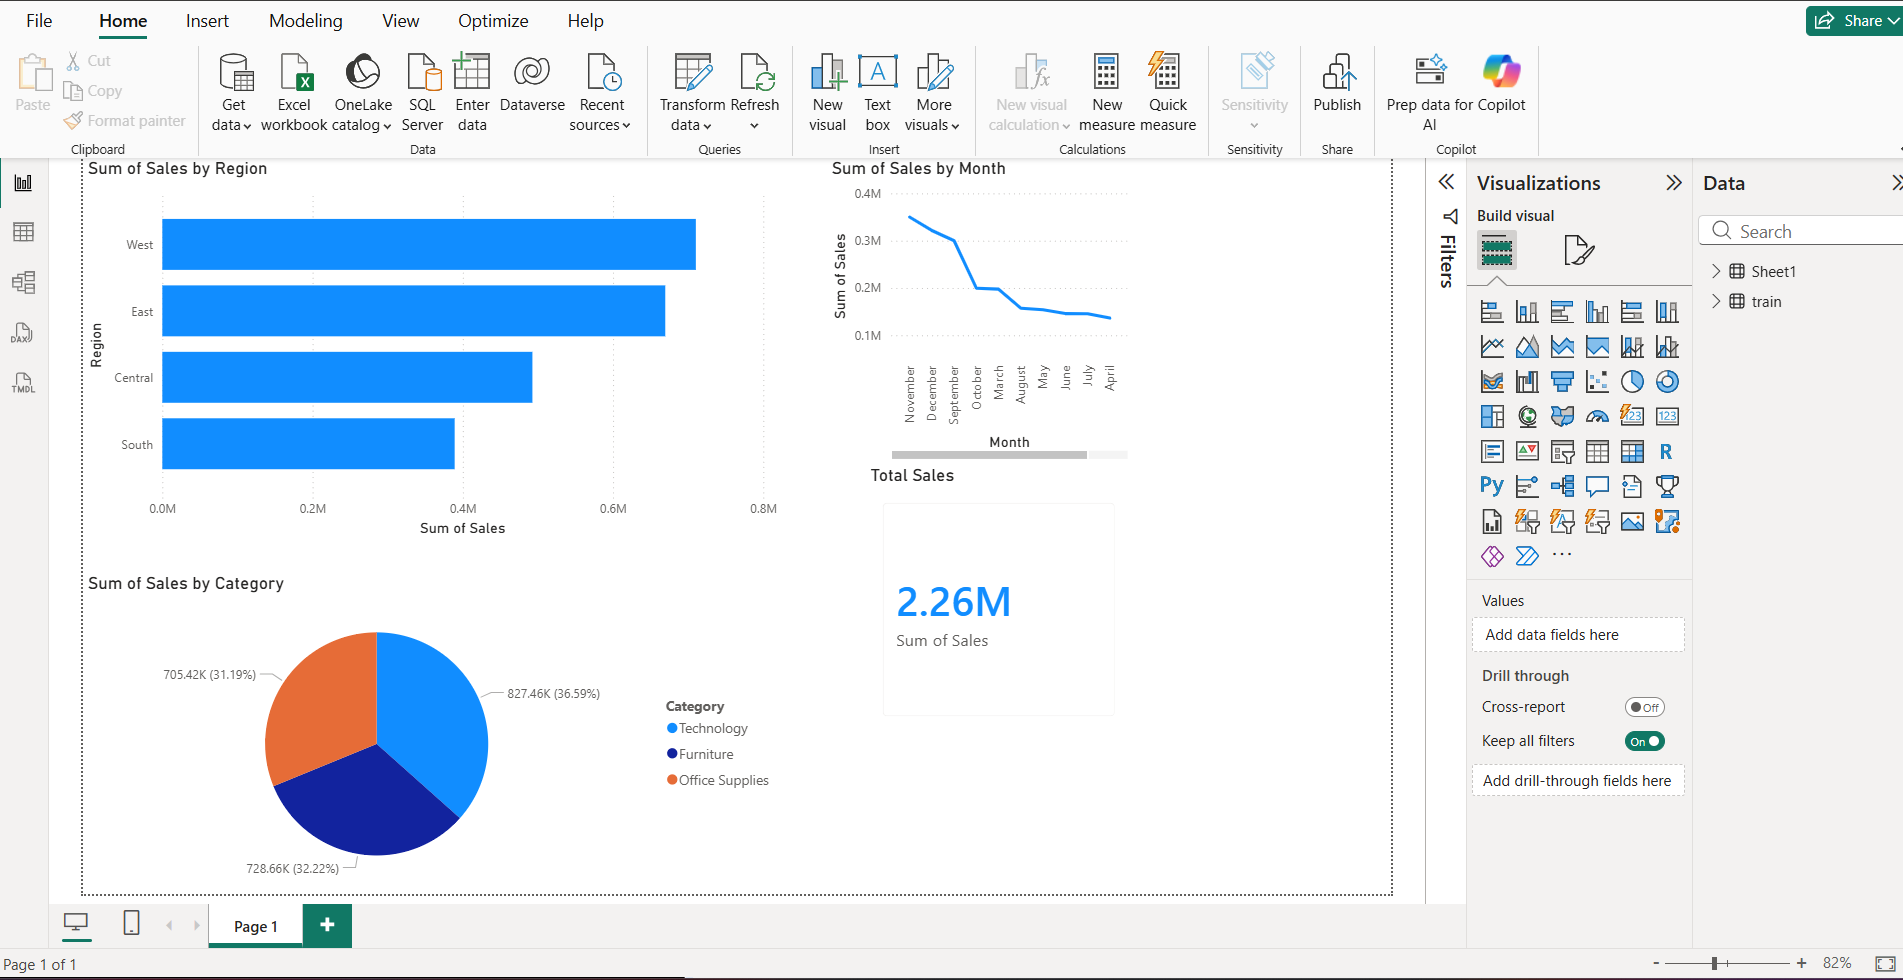

This screenshot's page, from the dashboard's own definition file:
{"tool":"powerbi","page":{"name":"Page 1","canvas":[1280,720],"ordinal":0},"visuals":[{"type":"barChart","fields":{"Category":["train.Region"],"Y":["Sum(train.Sales)"]},"box":[0,0,684.7,375.6],"z":1},{"type":"lineChart","fields":{"Category":["train.Month"],"Y":["Sum(train.Sales)"]},"box":[727.5,0,299.6,299.6],"z":2},{"type":"pieChart","fields":{"Category":["train.Category"],"Y":["Sum(train.Sales)"]},"box":[0,406,685,314],"z":3},{"type":"cardVisual","title":"Total Sales","fields":{"Data":["Sum(train.Sales)"]},"box":[765.5,299.6,261.5,263.9],"z":4}]}

Visuals, with their boxes on the page's 1280x720 design canvas (x1, y1, x2, y2). These are canvas units, not pixel positions in the 1903x980 screenshot, which may show the page scaled, cropped or inside an application window:
barChart - train.Region x Sum(train.Sales): <box>0,0,685,376</box>
lineChart - train.Month x Sum(train.Sales): <box>728,0,1027,300</box>
pieChart - train.Category x Sum(train.Sales): <box>0,406,685,720</box>
"Total Sales" cardVisual: <box>766,300,1027,564</box>
